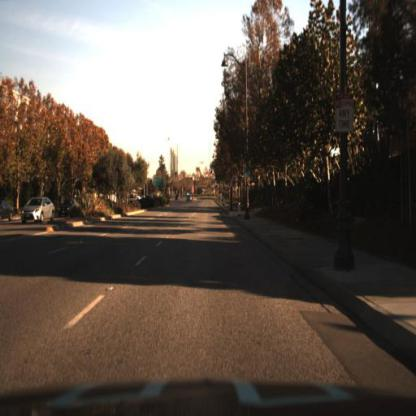car: (22, 196, 57, 225), (58, 193, 85, 220), (125, 189, 140, 210), (185, 191, 197, 210)
